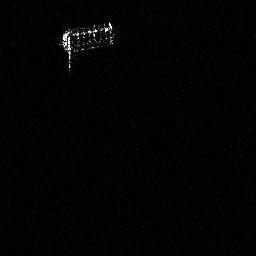ship: (58, 20, 116, 75)
